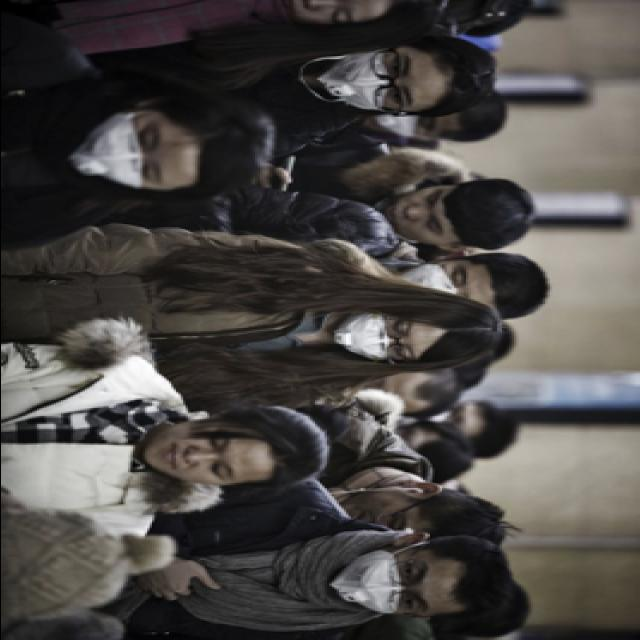mask: (64, 112, 170, 194), (333, 548, 439, 614), (319, 48, 419, 112), (336, 311, 424, 364), (403, 260, 477, 302), (374, 112, 446, 142)
no_mask: (144, 419, 242, 488), (386, 186, 456, 247), (343, 488, 417, 534), (268, 1, 364, 28)
